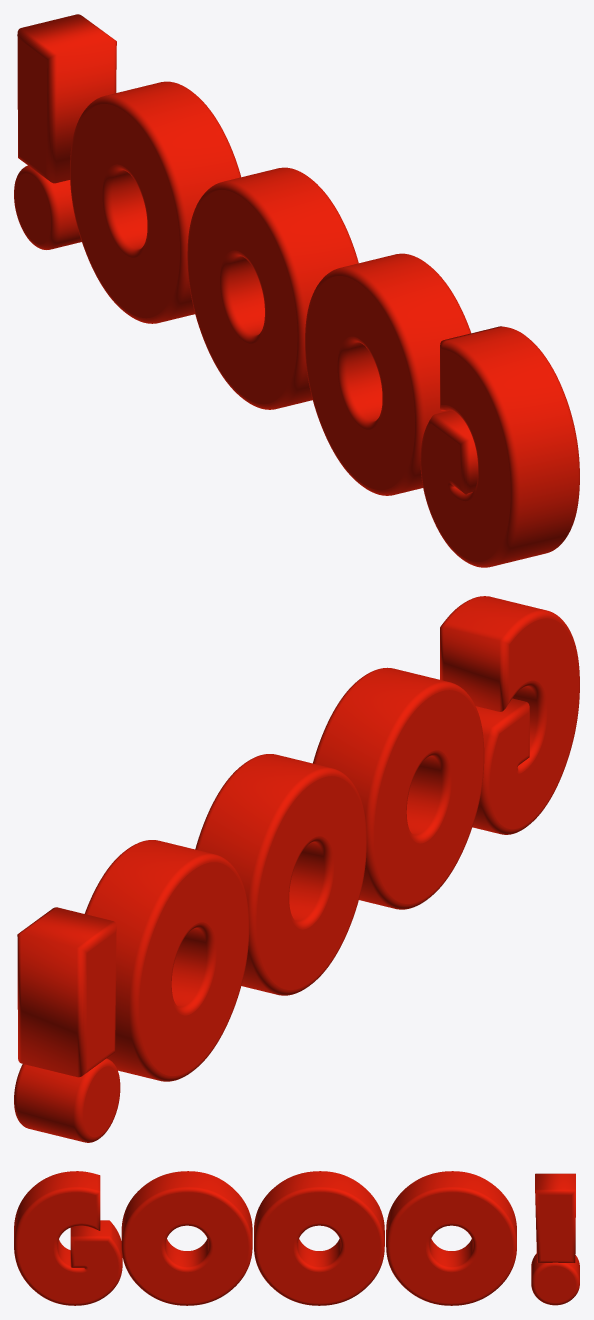
The picture shows the model from 3 angles, top to bottom: view 1: azimuth 30°, elevation 25°; view 2: azimuth 150°, elevation 25°; view 3: azimuth 270°, elevation 25°; orthographic projection. The views are drawn at different scales.
Visible parts, largest first — view 1: Text; view 2: Text; view 3: Text.
Part boxes in pixels (x1,y1,x2,y2): Text: (14, 14, 579, 567); Text: (14, 596, 579, 1142); Text: (14, 1171, 579, 1305).
Size of the model in its own units: 22 by 64.9 by 281.
